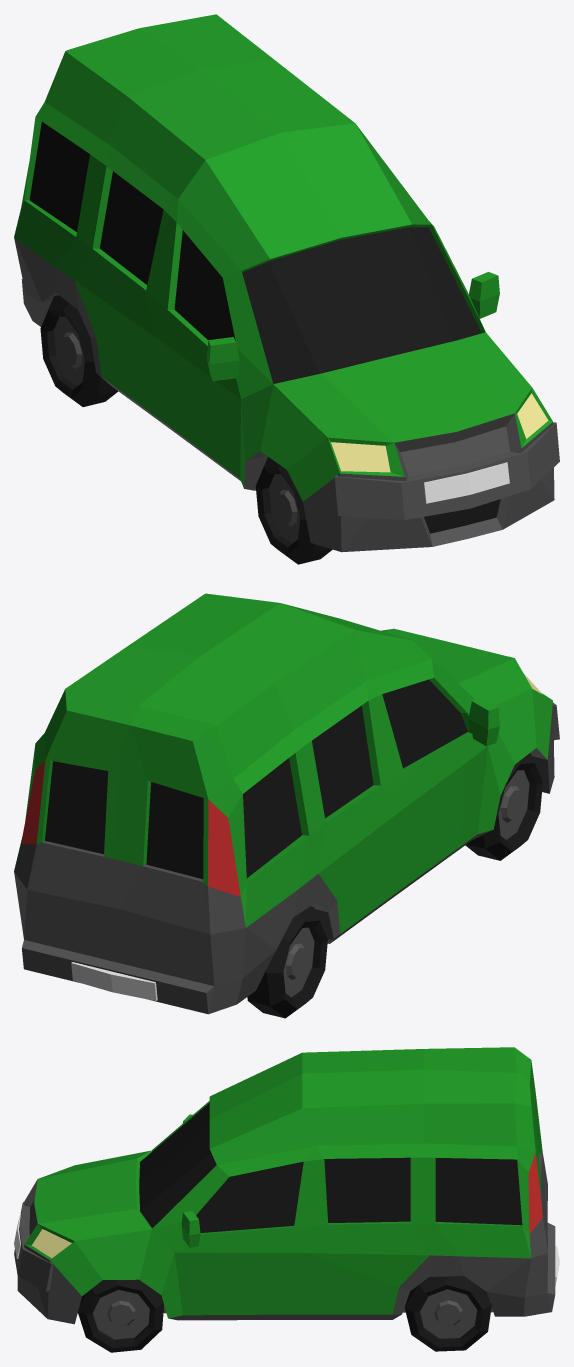
The model's file is Electric.glb.
3 renders of one model, top to bottom at view 1: azimuth 30°, elevation 25°; view 2: azimuth 150°, elevation 25°; view 3: azimuth 270°, elevation 25°, orthographic. The views are drawn at different scales.
Parts seen in each view (by area): view 1: Car 4, Wheel4-3, Wheel4-4; view 2: Car 4, Wheel4-3, Wheel4-4; view 3: Car 4, Wheel4-1, Wheel4-2.
Boxes of the visible parts, <box> form: Car 4: <box>14,14,559,552</box>; Wheel4-3: <box>40,295,118,406</box>; Wheel4-4: <box>255,457,332,564</box>; Car 4: <box>14,593,559,1014</box>; Wheel4-3: <box>247,906,327,1018</box>; Wheel4-4: <box>465,753,542,860</box>; Car 4: <box>14,1047,559,1324</box>; Wheel4-1: <box>404,1276,491,1351</box>; Wheel4-2: <box>78,1279,163,1352</box>.
Bounding box in the file's own units: 2.21 × 2.31 × 4.72.
4 materials, 4 textured.
